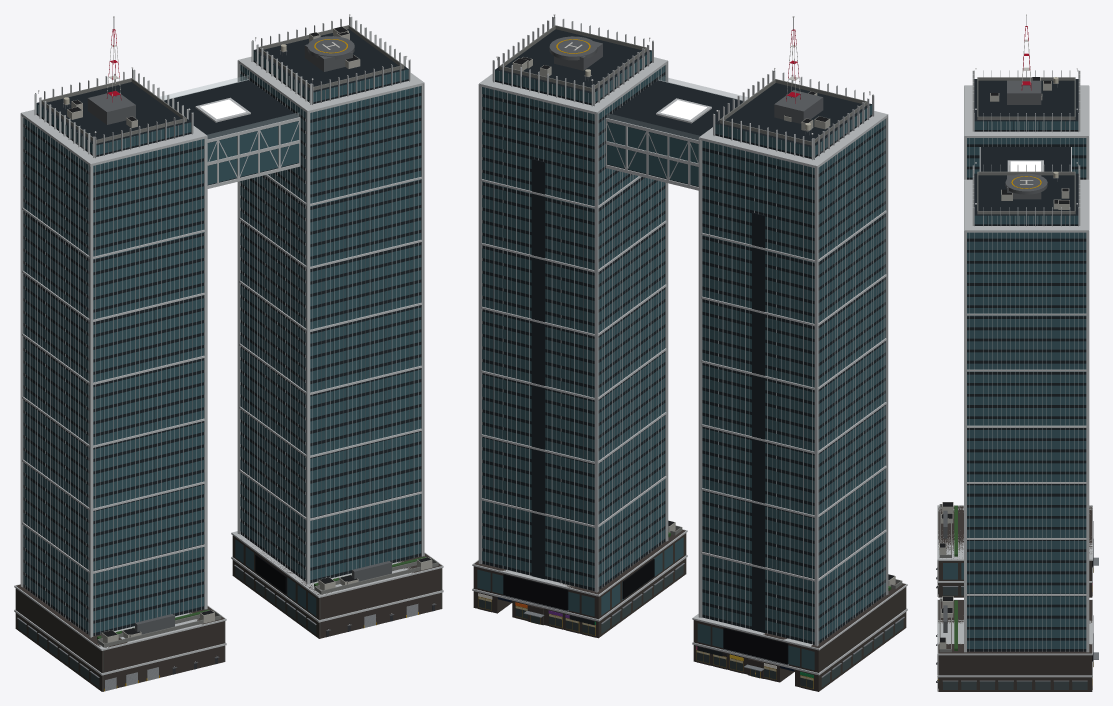
File: gate.glb
The picture shows the model from 3 angles, left to right: view 1: azimuth 30°, elevation 25°; view 2: azimuth 150°, elevation 25°; view 3: azimuth 270°, elevation 25°; orthographic projection. The views are drawn at different scales.
Visible parts, largest first — view 1: gate_towers_body; view 2: gate_towers_body; view 3: gate_towers_body.
Part boxes in pixels (x1=…): gate_towers_body: x1=14, y1=14, x2=443, y2=691; gate_towers_body: x1=472, y1=14, x2=907, y2=691; gate_towers_body: x1=936, y1=14, x2=1098, y2=691.
Size of the model in its own units: 117 by 203 by 53.9.
